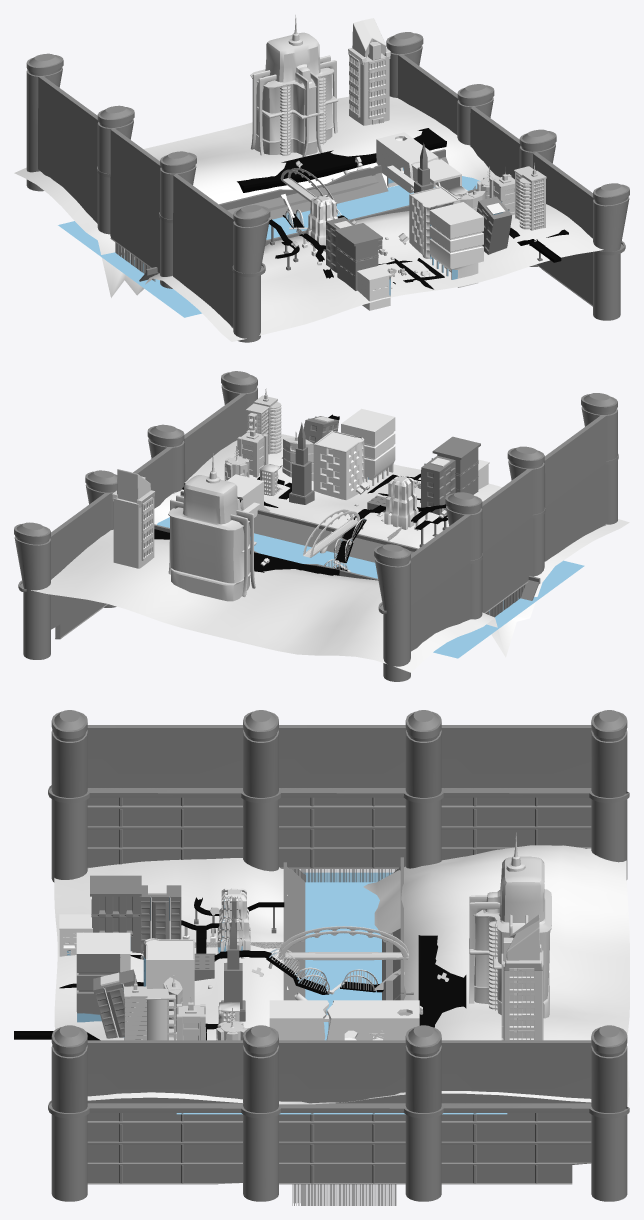
Rendered from NotFishAssets.fbx.
3 renders of one model, top to bottom at view 1: azimuth 30°, elevation 25°; view 2: azimuth 150°, elevation 25°; view 3: azimuth 270°, elevation 25°, orthographic. The views are drawn at different scales.
Visible parts, largest first — view 1: GrandeBarragemDeAgua, Terreno, GrandeBarragemDeAgua.001, Predio, Agua, Decoração, Predio4, PredioCaido, SegundaRua, Predio.002, Predio2, Predio5 (+15 smaller); view 2: Terreno, GrandeBarragemDeAgua, GrandeBarragemDeAgua.001, Predio, Agua, Decoração, Predio5, Predio.002, Predio4, Predio2, Predio3, PredioFuturista (+11 smaller); view 3: GrandeBarragemDeAgua.001, GrandeBarragemDeAgua, Terreno, Agua, Predio, PredioCaido, Decoração, Predio4, Predio2, Predio.002, SegundaRua, Predio5 (+12 smaller).
Boxes of the visible parts, left/top/right/bottom form: GrandeBarragemDeAgua: left=26, top=53, right=270, bottom=342; Terreno: left=14, top=96, right=603, bottom=341; GrandeBarragemDeAgua.001: left=386, top=32, right=629, bottom=320; Predio: left=250, top=15, right=338, bottom=156; Agua: left=58, top=176, right=480, bottom=317; Decoração: left=121, top=149, right=477, bottom=281; Predio4: left=429, top=202, right=483, bottom=287; PredioCaido: left=376, top=132, right=463, bottom=193; SegundaRua: left=237, top=128, right=446, bottom=192; Predio.002: left=348, top=18, right=390, bottom=125; Predio2: left=334, top=223, right=382, bottom=290; Predio5: left=409, top=186, right=460, bottom=259; Terreno: left=31, top=434, right=629, bottom=672; GrandeBarragemDeAgua: left=374, top=393, right=618, bottom=681; GrandeBarragemDeAgua.001: left=14, top=371, right=257, bottom=659; Predio: left=168, top=453, right=256, bottom=601; Agua: left=157, top=517, right=584, bottom=658; Decoração: left=154, top=491, right=540, bottom=600; Predio5: left=313, top=430, right=364, bottom=499; Predio.002: left=112, top=469, right=155, bottom=568; Predio4: left=341, top=408, right=395, bottom=485; Predio2: left=432, top=436, right=480, bottom=494; Predio3: left=421, top=455, right=455, bottom=515; PredioFuturista: left=384, top=475, right=418, bottom=529; GrandeBarragemDeAgua.001: left=48, top=1025, right=629, bottom=1205; GrandeBarragemDeAgua: left=48, top=710, right=629, bottom=882; Terreno: left=54, top=845, right=629, bottom=1104; Agua: left=176, top=872, right=507, bottom=1114; Predio: left=469, top=832, right=551, bottom=1018; PredioCaido: left=269, top=1000, right=419, bottom=1040; Decoração: left=182, top=857, right=413, bottom=1000; Predio4: left=76, top=932, right=130, bottom=1022; Predio2: left=90, top=875, right=141, bottom=952; Predio.002: left=501, top=914, right=543, bottom=1040; SegundaRua: left=418, top=935, right=466, bottom=1027; Predio5: left=143, top=938, right=194, bottom=1005.
Bounding box in the file's own units: 36477 × 19184 × 37006.
Materials: 1 (1 with a texture image).
